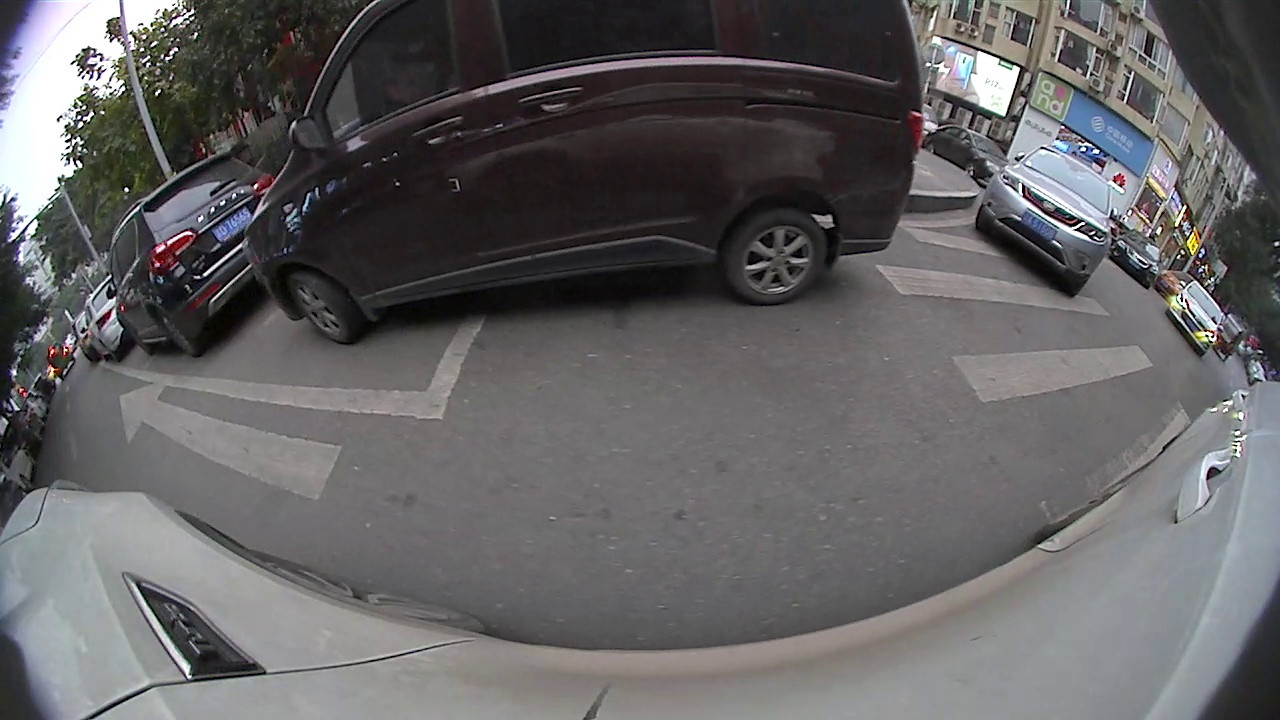car: (242, 1, 928, 349), (104, 143, 276, 360), (973, 141, 1121, 303), (1164, 274, 1230, 362), (921, 124, 1010, 184), (1112, 227, 1166, 290)
front: (287, 266, 358, 344)
rear: (733, 209, 827, 304)
